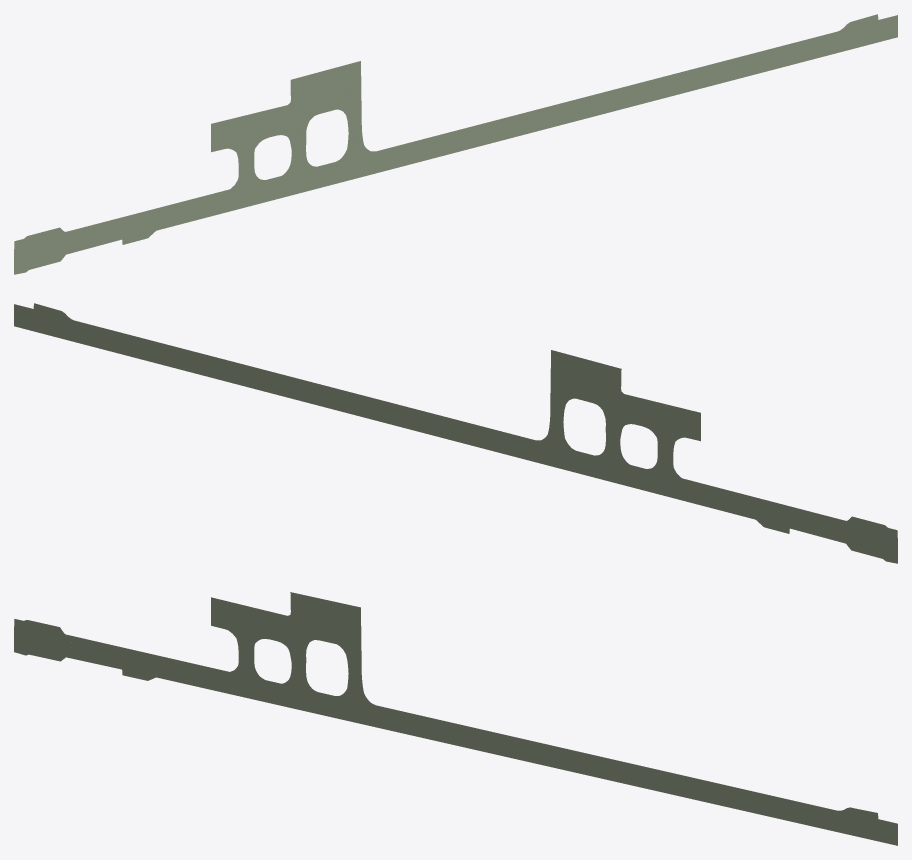
File: gp_conc.obj
3 renders of one model, top to bottom at view 1: azimuth 30°, elevation 25°; view 2: azimuth 150°, elevation 25°; view 3: azimuth 330°, elevation 25°, orthographic.
Visible parts, largest first — view 1: node1; view 2: node1; view 3: node1.
Boxes of the visible parts, left/top/right/bottom form: node1: left=14, top=14, right=897, bottom=274; node1: left=14, top=303, right=897, bottom=563; node1: left=14, top=592, right=897, bottom=845.
Bounding box in the file's own units: 2464 × 346 × 0.1313.
Materials: 1 (1 with a texture image).
